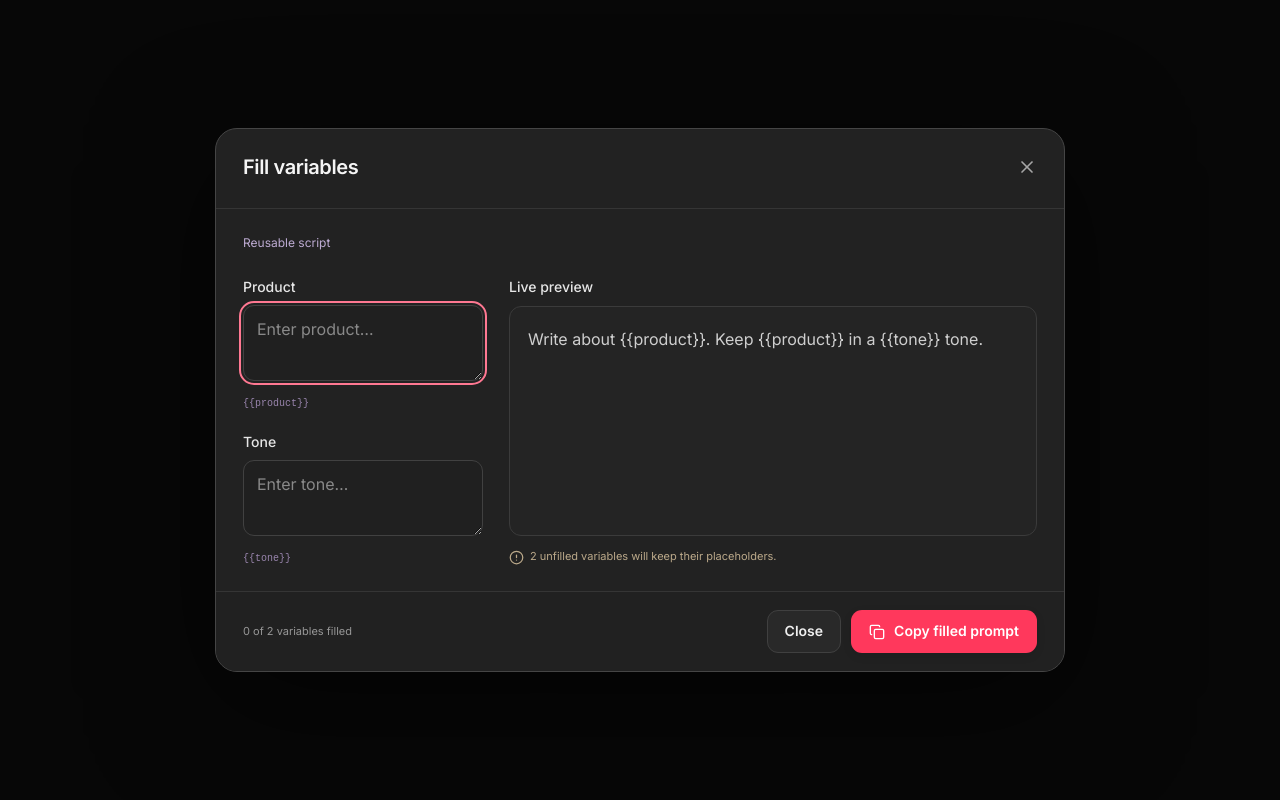
Test: filled prompt interactions › shows unique variable fields and explicitly confirms unresolved placeholders before literal copy
Later steps or results of the test are not shown.
Type "$& <b>Literal</b>" into the text box labelled "product".
click(363, 343); type("$& <b>Literal</b>")  # box [243,305,483,381]
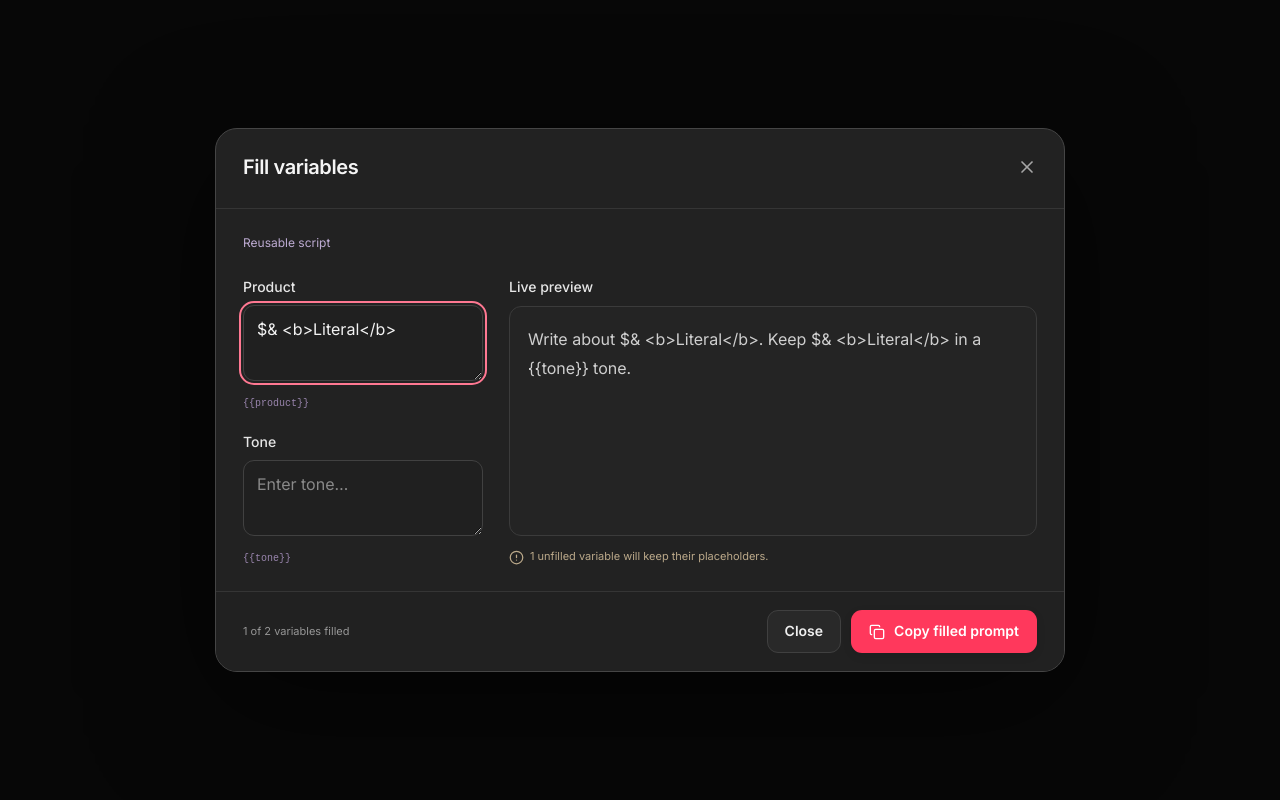
Click the button "Copy filled prompt".
click(944, 632)  # box [851,610,1037,653]
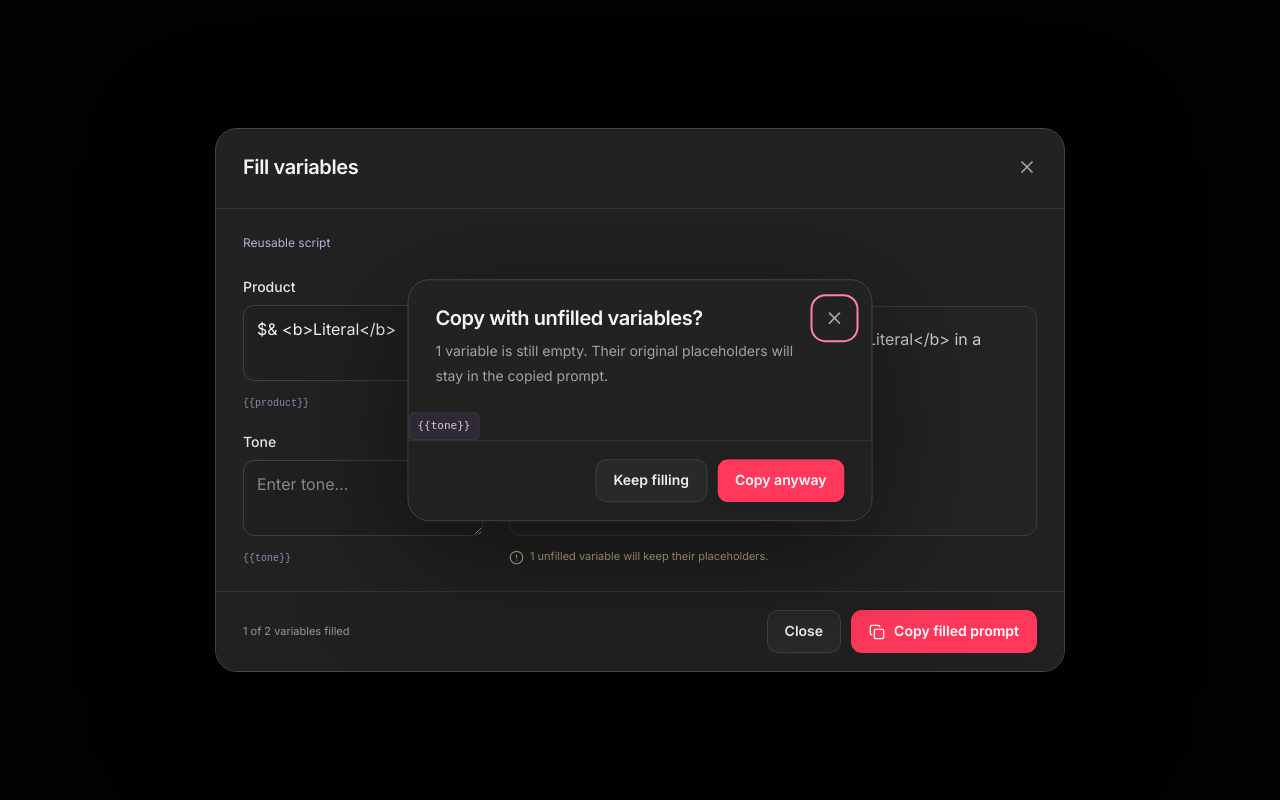
Result: the heading "Copy with unfilled variables?" is shown at [436,306,703,330]
